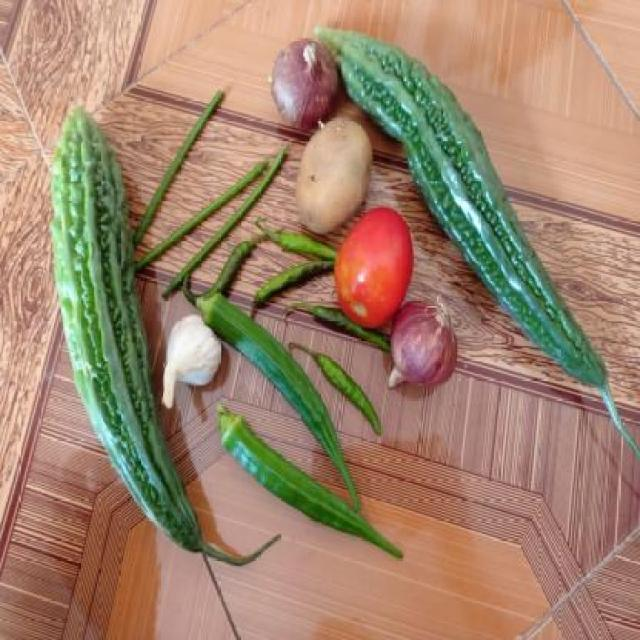Bitter melon: (44, 93, 156, 572)
Garlic: (156, 310, 222, 410)
Green Chili: (254, 216, 338, 304)
Lady finger: (216, 408, 410, 577)
Onion: (258, 35, 346, 128), (386, 294, 464, 394)
Potato: (294, 116, 377, 230)
Tomato: (342, 212, 416, 330)
